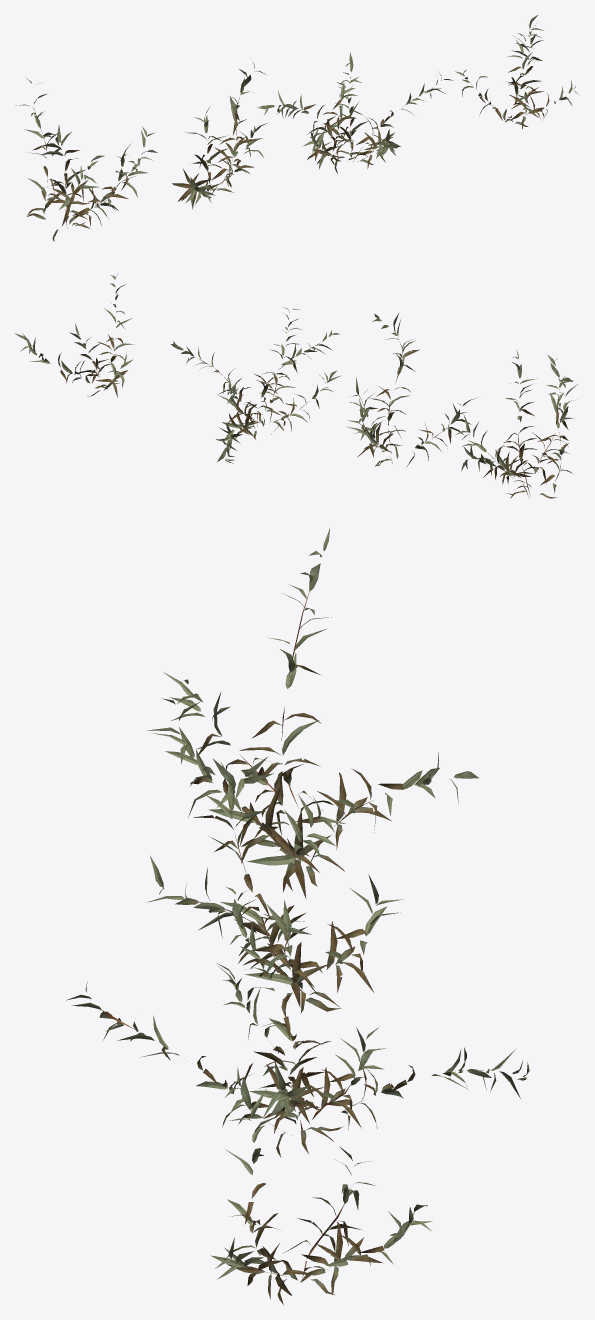
File: shrub_02.glb
3 views of the same model, one above another, from view 1: azimuth 30°, elevation 25°; view 2: azimuth 150°, elevation 25°; view 3: azimuth 270°, elevation 25° (orthographic). The views are drawn at different scales.
Visible parts, largest first — view 1: shrub_02_c, shrub_02_a, shrub_02_b, shrub_02_d; view 2: shrub_02_a, shrub_02_c, shrub_02_b, shrub_02_d; view 3: shrub_02_a, shrub_02_c, shrub_02_b, shrub_02_d.
Boxes of the visible parts, x1,y1,x2,y2 form: shrub_02_c: (257, 52, 453, 173); shrub_02_a: (15, 78, 157, 241); shrub_02_b: (172, 62, 267, 209); shrub_02_d: (455, 15, 579, 128); shrub_02_a: (455, 350, 577, 498); shrub_02_c: (170, 307, 341, 463); shrub_02_b: (346, 313, 475, 467); shrub_02_d: (15, 273, 134, 397); shrub_02_a: (147, 528, 478, 898); shrub_02_c: (66, 887, 529, 1157); shrub_02_b: (146, 757, 403, 1017); shrub_02_d: (210, 1067, 432, 1304).
Size of the model in its own units: 6.05 by 1.7 by 2.28.
Materials: 1 (1 with a texture image).
